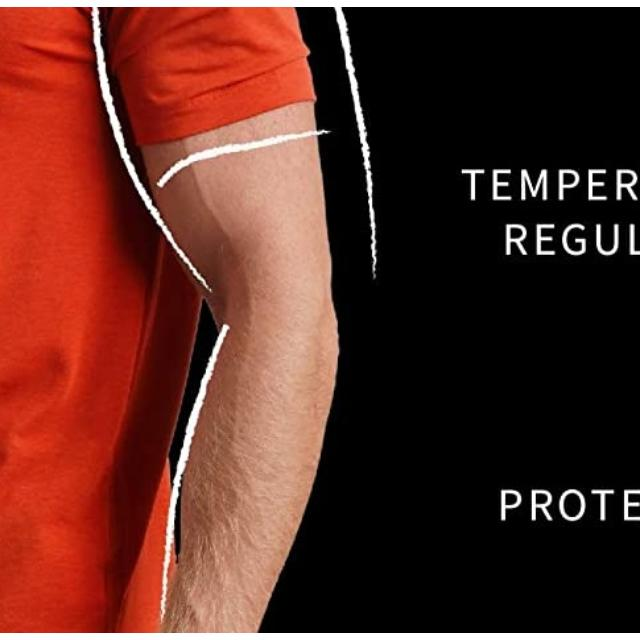wool: (0, 7, 348, 633)
